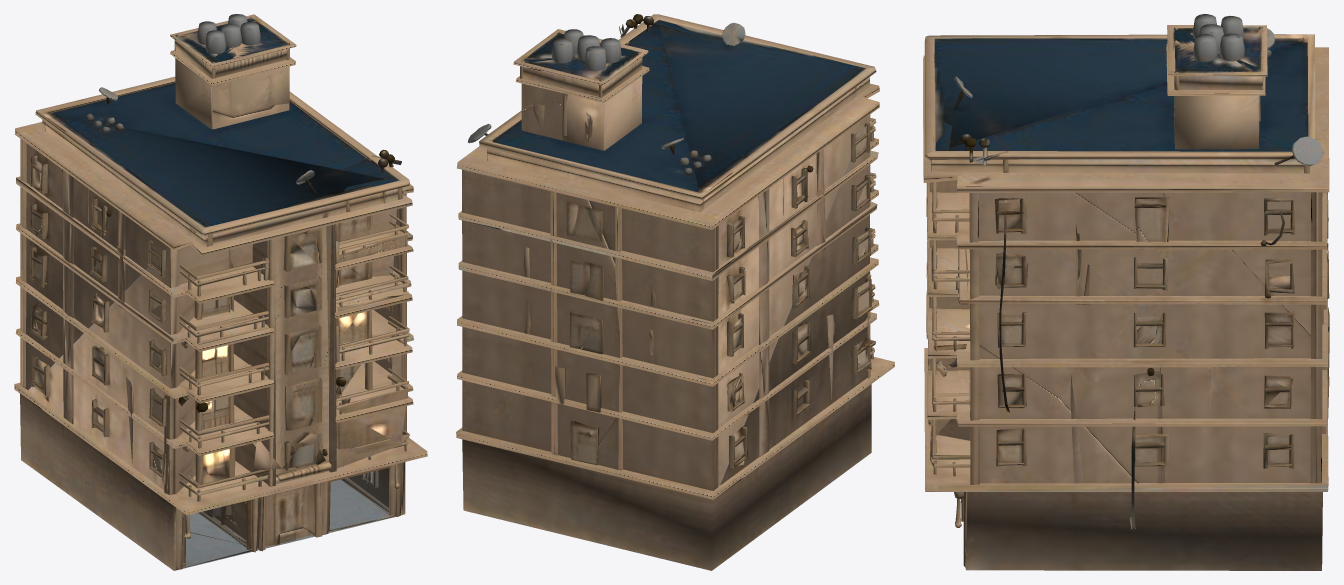
The picture shows the model from 3 angles, left to right: view 1: azimuth 30°, elevation 25°; view 2: azimuth 150°, elevation 25°; view 3: azimuth 270°, elevation 25°; orthographic projection. The views are drawn at different scales.
Visible parts, largest first — view 1: geometry_0; view 2: geometry_0; view 3: geometry_0.
Part boxes in pixels (bbox=[...]): geometry_0: bbox=[14, 14, 427, 570]; geometry_0: bbox=[456, 14, 894, 570]; geometry_0: bbox=[923, 14, 1329, 570].
Bounding box in the file's own units: 0.6275 × 1 × 0.7349.
Materials: 1 (1 with a texture image).
